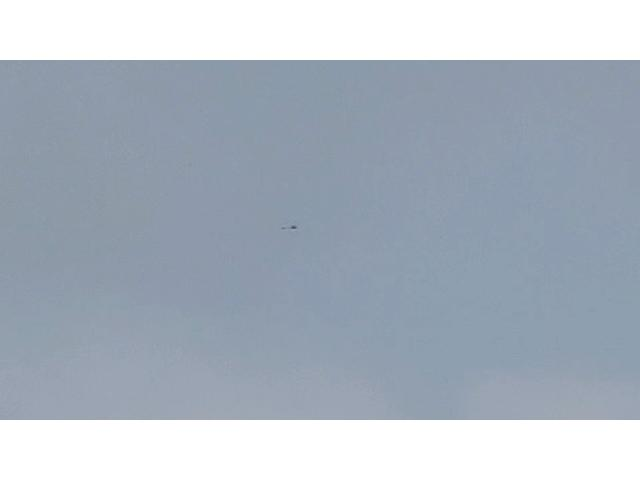Anti-Drone: (281, 222, 301, 234)
